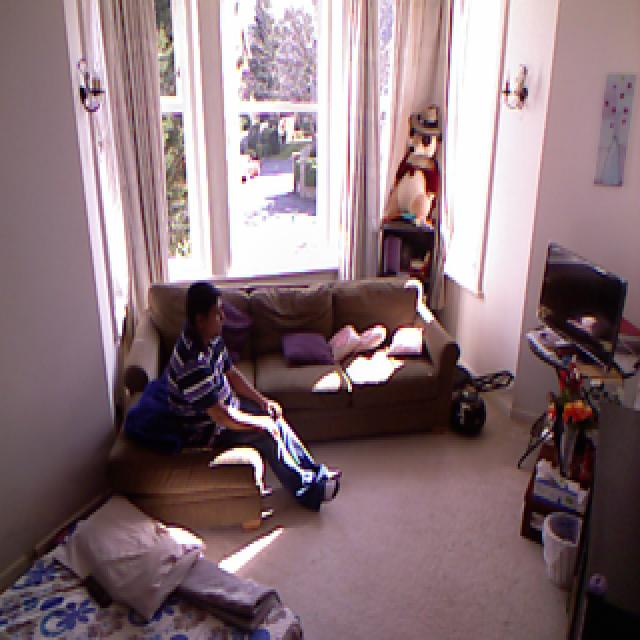sitting: (162, 278, 344, 513)
